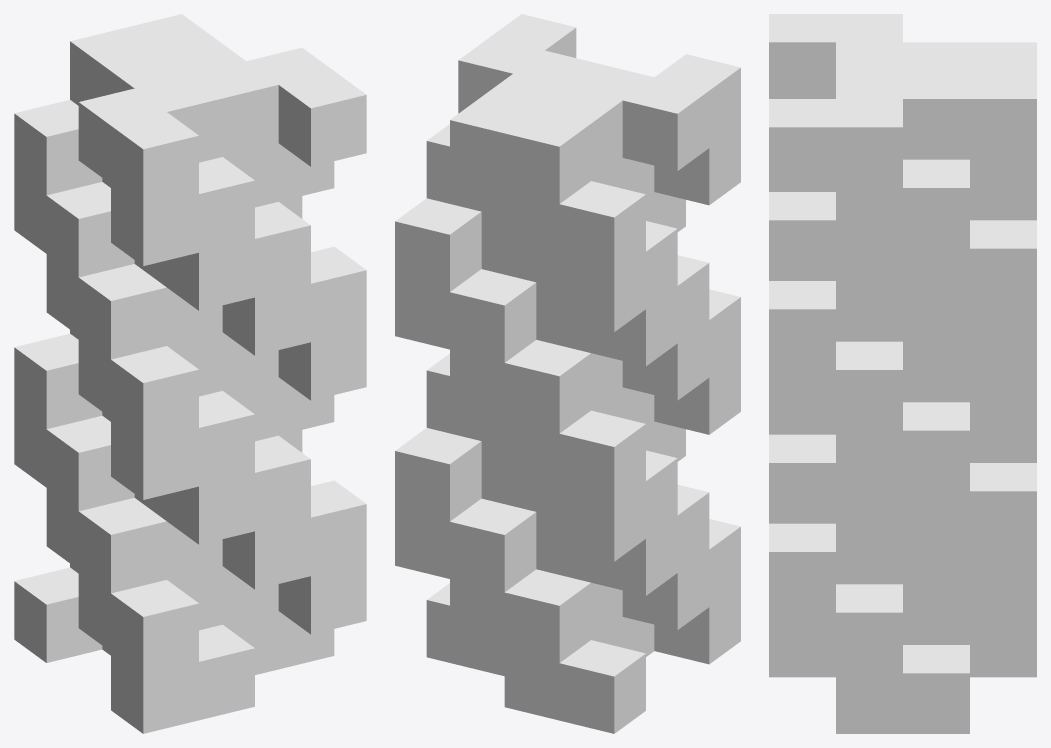
Rendered from vline.obj.
3 renders of one model, left to right at view 1: azimuth 30°, elevation 25°; view 2: azimuth 150°, elevation 25°; view 3: azimuth 270°, elevation 25°, orthographic. The views are drawn at different scales.
Size of the model in its own units: 0.4 by 1 by 0.4.
1 material, 1 textured.
